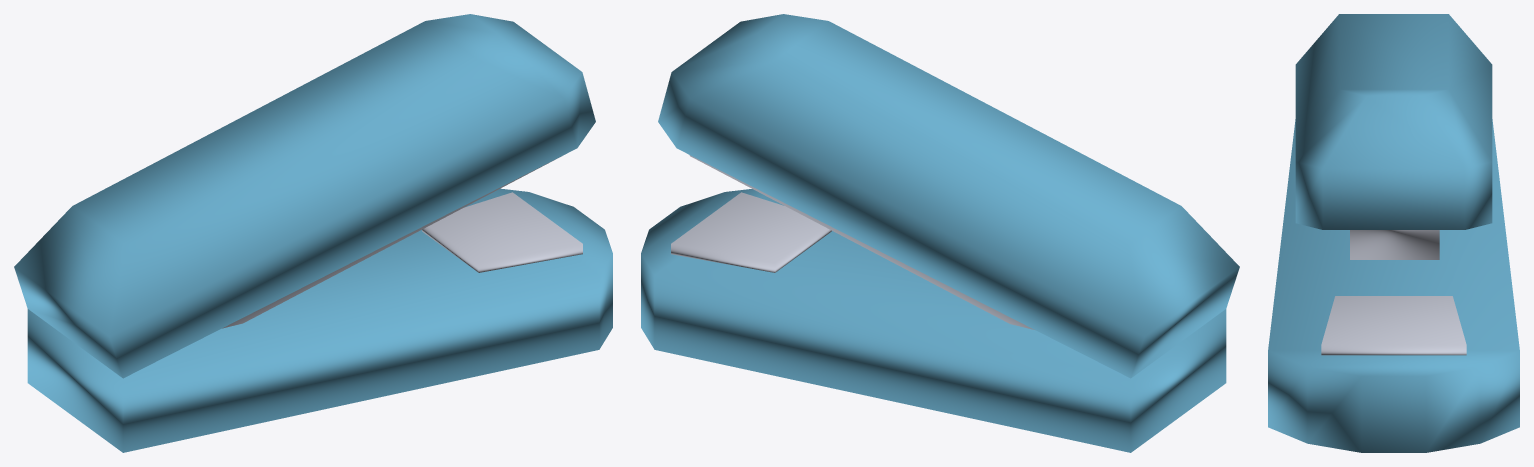
The model's file is Stapler.glb.
The picture shows the model from 3 angles, left to right: view 1: azimuth 30°, elevation 25°; view 2: azimuth 150°, elevation 25°; view 3: azimuth 270°, elevation 25°; orthographic projection. The views are drawn at different scales.
Parts seen in each view (by area): view 1: Stapler; view 2: Stapler; view 3: Stapler.
Part boxes in pixels (x1,y1,x2,y2): Stapler: (14,14,612,452); Stapler: (641,14,1239,452); Stapler: (1268,14,1519,452).
Size of the model in its own units: 0.1356 by 0.0724 by 0.0544.
